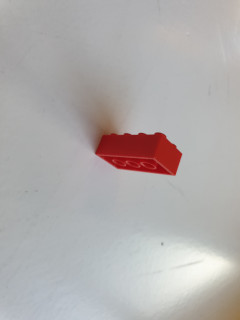2x4 red: (95, 132, 183, 176)
